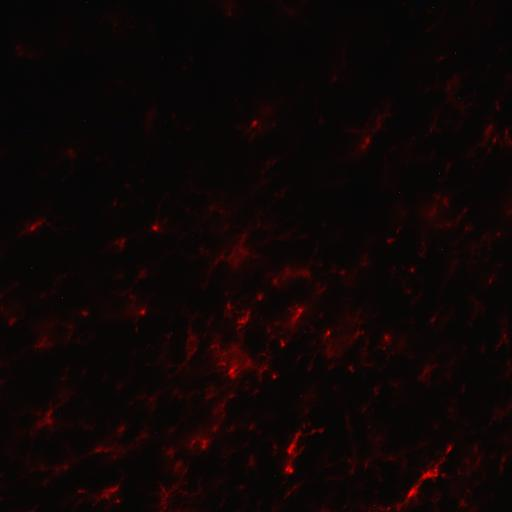microglia: (199, 209, 273, 292), (372, 441, 456, 512), (305, 311, 375, 370), (338, 424, 405, 484), (82, 420, 152, 472), (422, 71, 476, 137), (415, 192, 468, 258), (18, 385, 76, 445), (341, 98, 394, 160), (89, 2, 152, 53), (207, 338, 275, 384), (150, 461, 205, 512), (281, 419, 327, 478), (234, 96, 285, 142), (16, 450, 81, 486), (413, 342, 465, 386), (65, 475, 126, 512), (466, 122, 512, 168), (106, 286, 150, 334), (173, 415, 225, 455), (264, 262, 314, 303), (266, 303, 308, 351), (30, 314, 76, 357), (157, 323, 196, 369), (387, 261, 425, 304), (464, 229, 503, 270), (15, 213, 70, 241), (35, 266, 71, 304), (377, 331, 413, 368), (0, 276, 25, 327), (325, 44, 352, 88), (458, 443, 488, 479), (227, 297, 257, 331), (147, 193, 170, 236), (386, 203, 408, 246), (273, 0, 312, 21), (101, 232, 135, 256), (455, 485, 485, 512), (486, 395, 512, 425), (427, 305, 459, 329), (58, 143, 78, 181), (494, 315, 512, 355), (14, 42, 40, 64), (140, 104, 159, 134), (133, 262, 152, 287), (496, 448, 512, 477), (73, 300, 93, 320), (217, 0, 240, 17), (110, 195, 126, 210), (68, 149, 75, 158), (257, 293, 263, 300)
